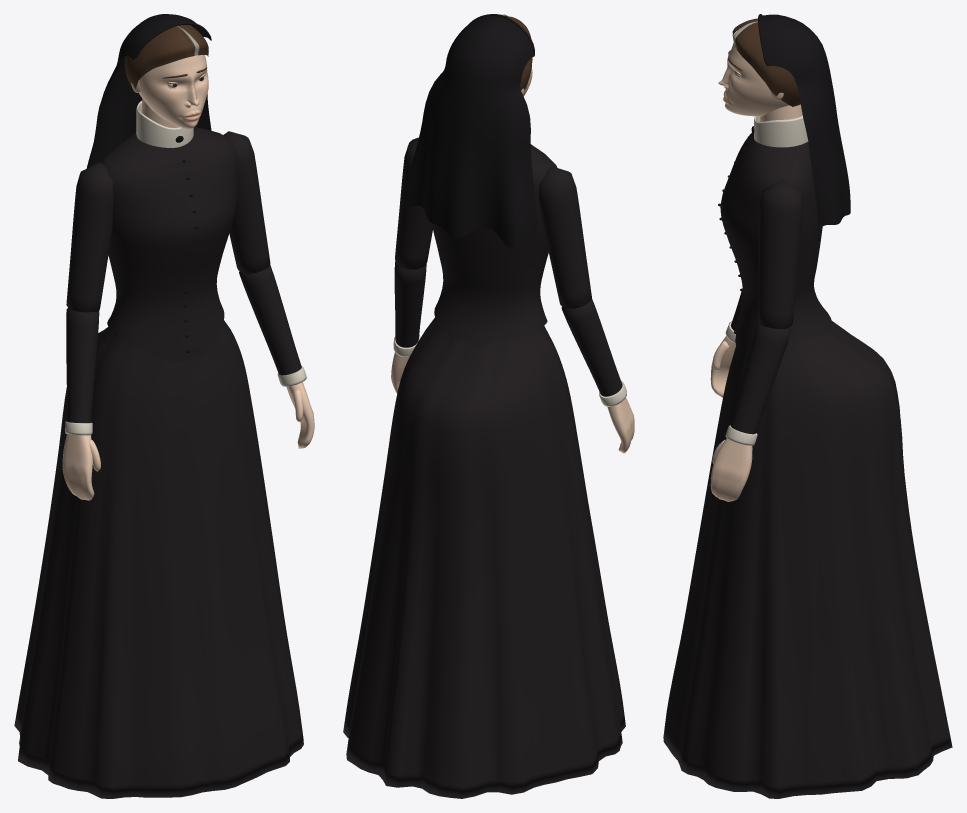
Rendered from helen.glb.
3 views of the same model, side by side, from view 1: azimuth 30°, elevation 25°; view 2: azimuth 150°, elevation 25°; view 3: azimuth 270°, elevation 25° (orthographic). The views are drawn at different scales.
Parts seen in each view (by area): view 1: body_skirt, body_bodice, arm_right_sleeve, head_veil, head_skin, arm_left_sleeve, arm_right_forearm_sleeve, arm_left_forearm_sleeve, head_hair, arm_right_hand, body_collar, arm_left_hand; view 2: body_skirt, head_veil, body_bodice, arm_right_sleeve, arm_right_forearm_sleeve, arm_left_sleeve, arm_left_forearm_sleeve, arm_right_hand; view 3: body_skirt, body_bodice, head_veil, arm_left_sleeve, arm_left_forearm_sleeve, head_skin, head_hair, arm_left_hand, body_collar, arm_right_hand.
Part boxes in pixels (x1,y1,x2,y2): body_skirt: (14, 320, 303, 798); body_bodice: (100, 127, 237, 361); arm_right_sleeve: (66, 162, 113, 312); head_veil: (86, 14, 211, 168); head_skin: (131, 55, 208, 128); arm_left_sleeve: (223, 131, 270, 273); arm_right_forearm_sleeve: (66, 308, 99, 422); arm_left_forearm_sleeve: (239, 264, 301, 375); head_hair: (125, 25, 208, 92); arm_right_hand: (62, 434, 100, 500); body_collar: (136, 101, 193, 147); arm_left_hand: (286, 382, 314, 448); body_skirt: (343, 318, 625, 798); head_veil: (404, 14, 537, 249); body_bodice: (431, 144, 557, 343); arm_right_sleeve: (538, 166, 591, 308); arm_right_forearm_sleeve: (561, 299, 622, 396); arm_left_sleeve: (395, 137, 432, 269); arm_left_forearm_sleeve: (394, 262, 426, 347); arm_right_hand: (607, 398, 634, 453); body_skirt: (663, 321, 952, 798); body_bodice: (720, 133, 832, 346); head_veil: (758, 14, 850, 240); arm_left_sleeve: (758, 179, 802, 328); arm_left_forearm_sleeve: (731, 322, 791, 434); head_skin: (718, 42, 802, 121); head_hair: (728, 18, 800, 106); arm_left_hand: (710, 438, 752, 501); body_collar: (754, 116, 808, 147); arm_right_hand: (710, 336, 735, 397).
Size of the model in its own units: 0.5994 by 1.64 by 0.5988.
